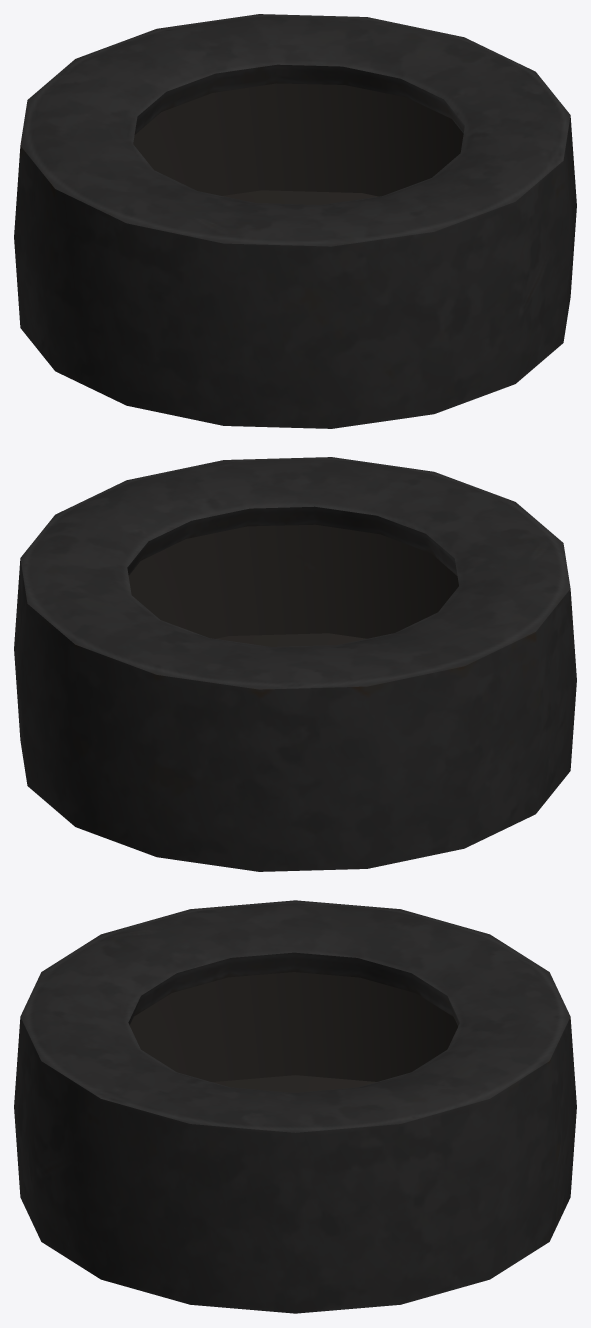
The model's file is SM_Props_Tire_01.glb.
3 renders of one model, top to bottom at view 1: azimuth 30°, elevation 25°; view 2: azimuth 150°, elevation 25°; view 3: azimuth 270°, elevation 25°, orthographic.
Parts seen in each view (by area): view 1: SM_Tire_01; view 2: SM_Tire_01; view 3: SM_Tire_01.
Part boxes in pixels (x1,y1,x2,y2): SM_Tire_01: (14, 14, 576, 428); SM_Tire_01: (14, 457, 576, 871); SM_Tire_01: (14, 900, 576, 1313).
Size of the model in its own units: 1.12 by 0.4167 by 1.12.
Materials: 1 (1 with a texture image).
